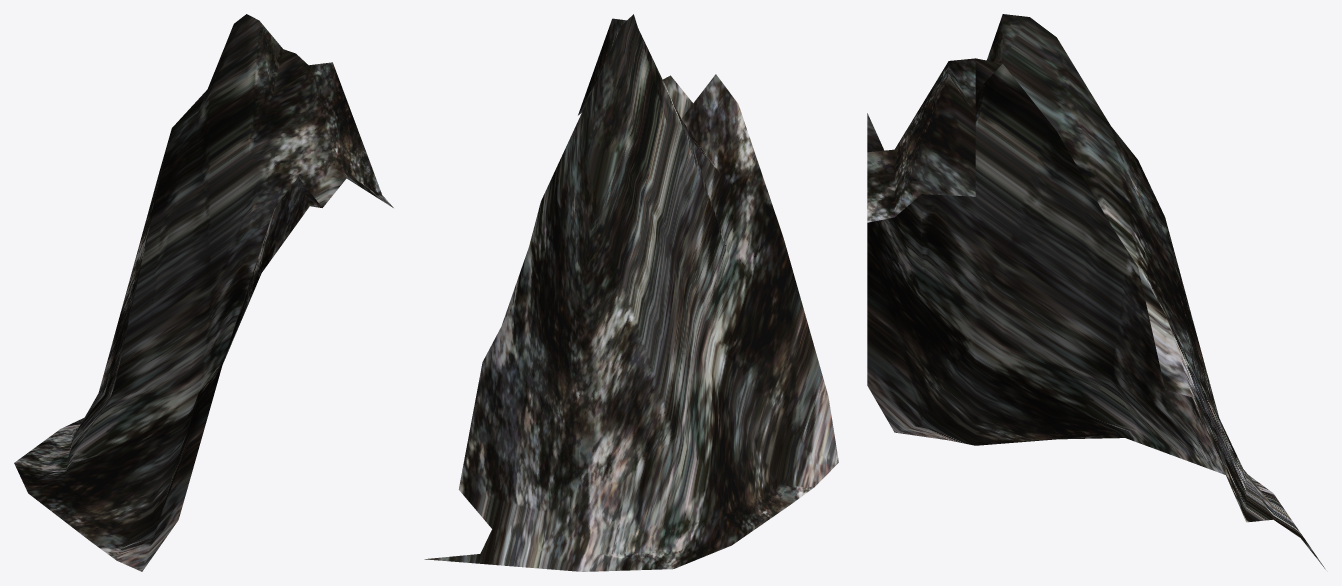
File: OVERHILL_A_01_OBJECT27.fbx
The picture shows the model from 3 angles, left to right: view 1: azimuth 30°, elevation 25°; view 2: azimuth 150°, elevation 25°; view 3: azimuth 270°, elevation 25°; orthographic projection. The views are drawn at different scales.
Visible parts, largest first — view 1: OVERHILL_A_01_OBJECT27; view 2: OVERHILL_A_01_OBJECT27; view 3: OVERHILL_A_01_OBJECT27.
Part boxes in pixels (bbox=[...]): OVERHILL_A_01_OBJECT27: bbox=[14, 14, 393, 571]; OVERHILL_A_01_OBJECT27: bbox=[424, 14, 838, 571]; OVERHILL_A_01_OBJECT27: bbox=[867, 14, 1325, 569].
Size of the model in its own units: 136475 by 264419 by 211909.
Materials: 1 (1 with a texture image).
